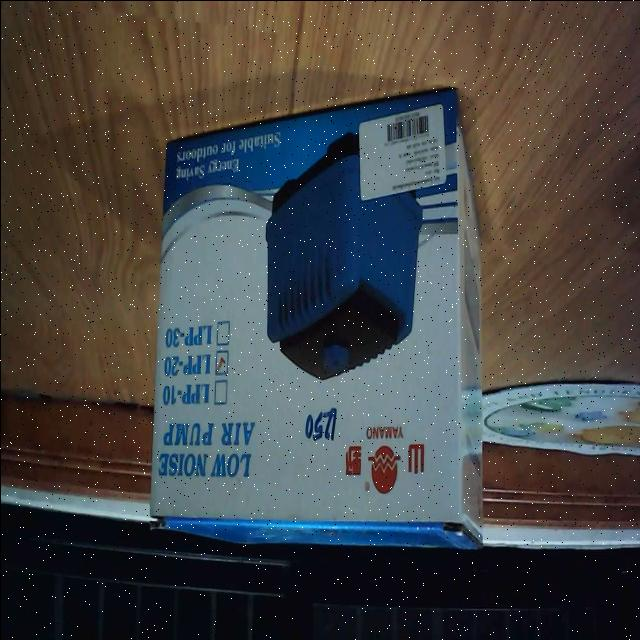YAMANO_LPP_20: (140, 84, 493, 570)
